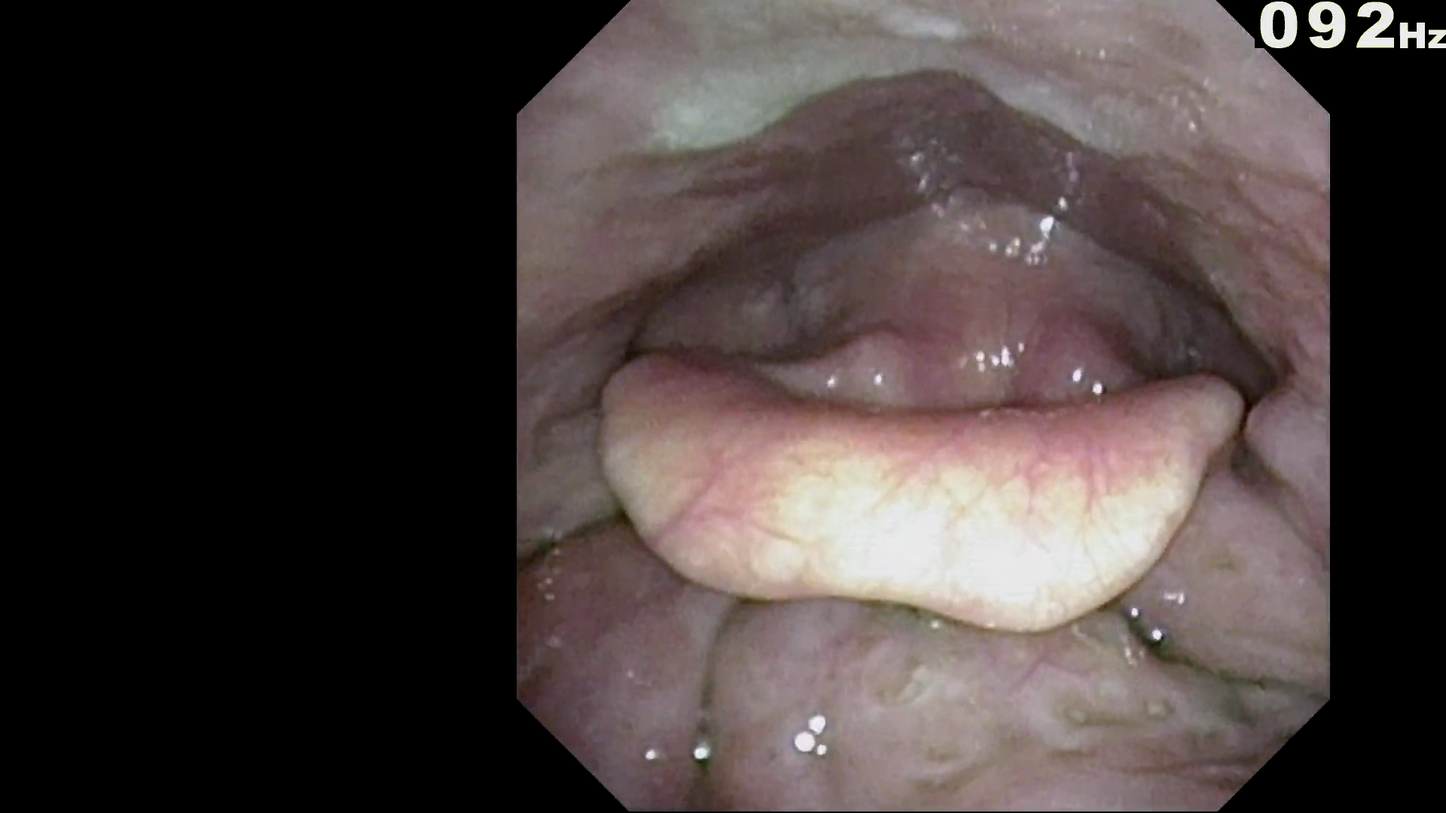epiglottis: (610, 370, 1223, 620)
trachea: (924, 368, 1021, 440)
